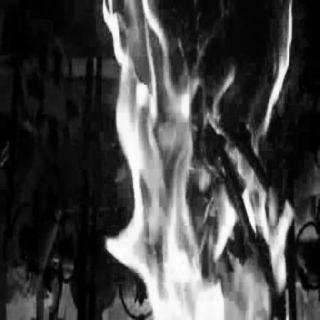Fire: (100, 2, 310, 319)
